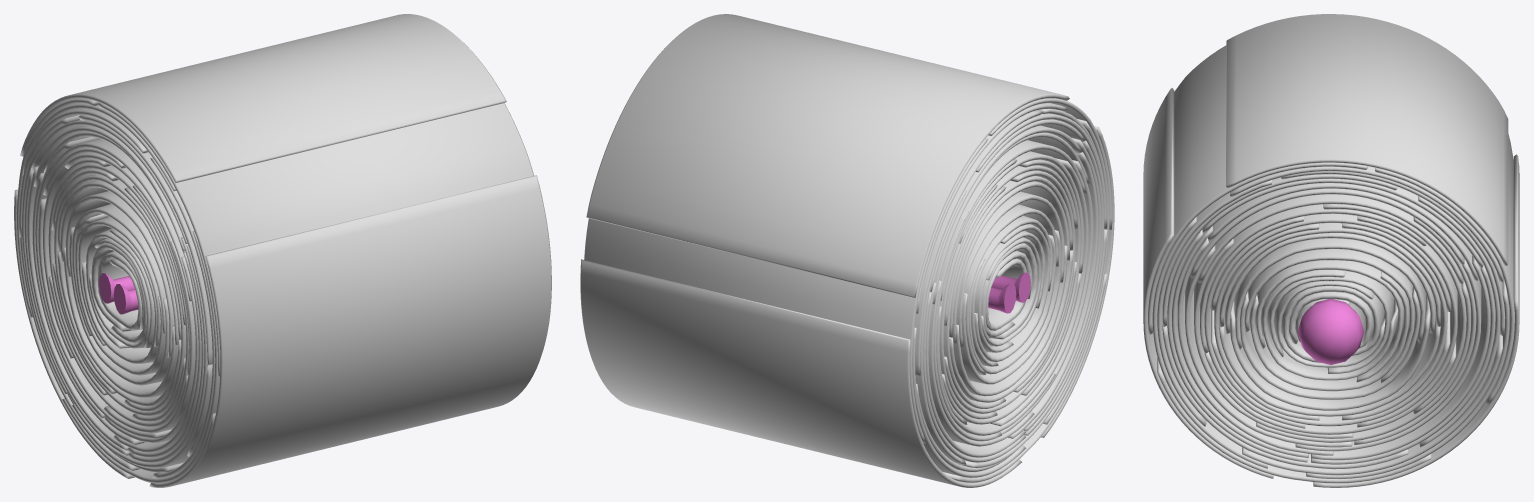
Rendered from huton_4(46)_m.FBX.
The picture shows the model from 3 angles, left to right: view 1: azimuth 30°, elevation 25°; view 2: azimuth 150°, elevation 25°; view 3: azimuth 270°, elevation 25°; orthographic projection. The views are drawn at different scales.
Visible parts, largest first — view 1: huton1; view 2: huton1; view 3: huton1.
Boxes of the visible parts, bbox=[...] form: huton1: bbox=[14, 14, 551, 487]; huton1: bbox=[580, 14, 1114, 487]; huton1: bbox=[1143, 14, 1519, 487].
Size of the model in its own units: 181 by 163 by 169.
